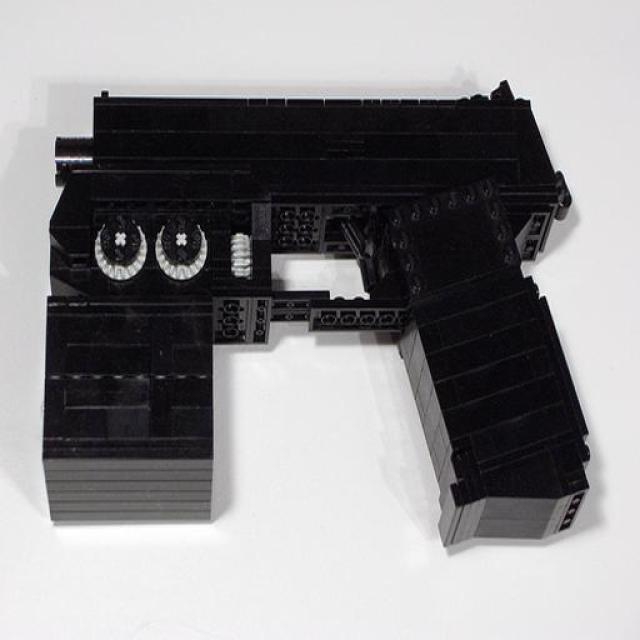pistol: (40, 80, 606, 549)
